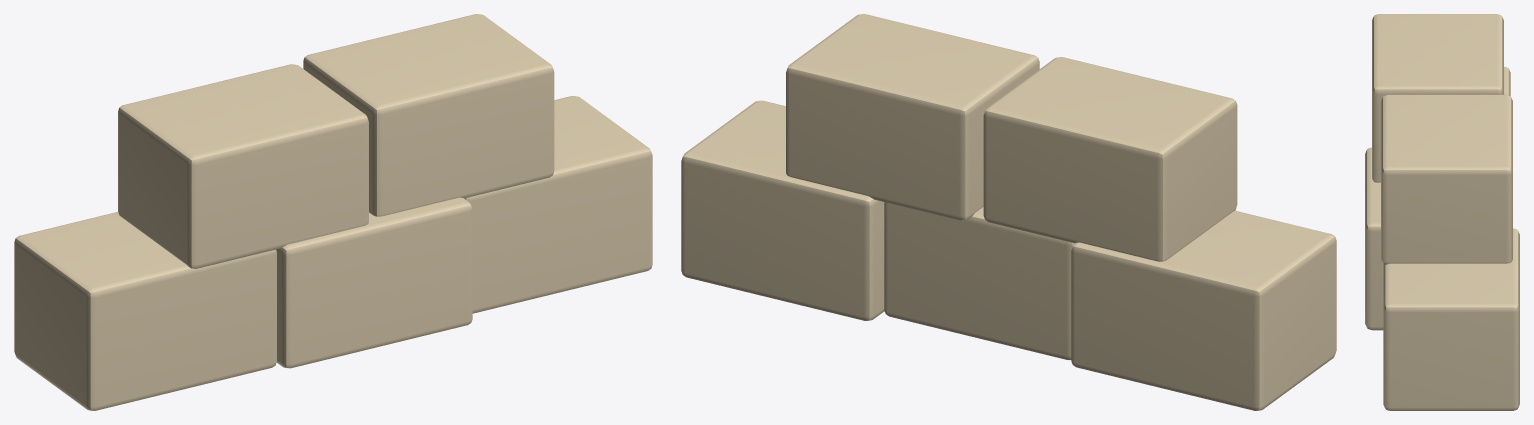
The model's file is sandbags.glb.
3 renders of one model, left to right at view 1: azimuth 30°, elevation 25°; view 2: azimuth 150°, elevation 25°; view 3: azimuth 270°, elevation 25°, orthographic. The views are drawn at different scales.
Parts seen in each view (by area): view 1: sandbags; view 2: sandbags; view 3: sandbags.
Part boxes in pixels (x1=…): sandbags: x1=14, y1=14, x2=652, y2=410; sandbags: x1=681, y1=14, x2=1336, y2=410; sandbags: x1=1365, y1=14, x2=1519, y2=410.
Bounding box in the file's own units: 1.26 × 0.49 × 0.34.
